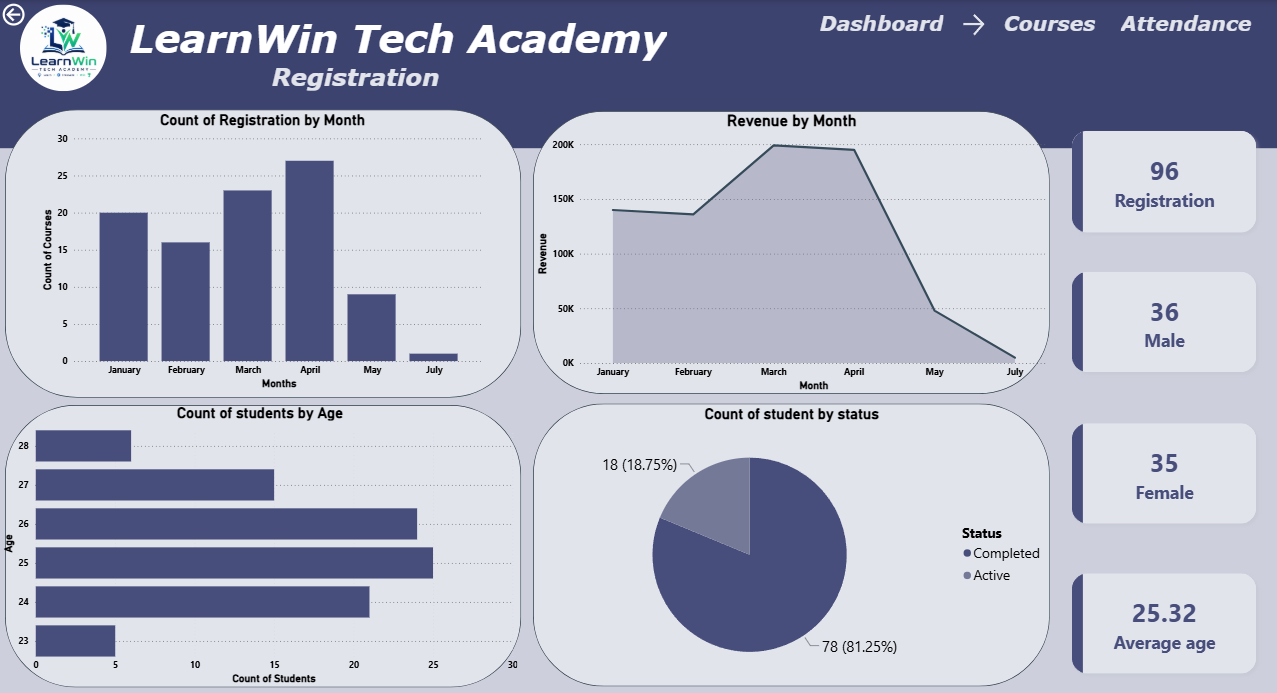

The dashboard page shown, as its layout file describes it:
{"tool":"powerbi","page":{"name":"Registration","canvas":[1280,720],"ordinal":1},"visuals":[{"type":"textbox","box":[44.5,51,211,150],"z":0},{"type":"shape","box":[0,0,313.3,900],"z":1000},{"type":"shape","box":[314,0,965.4,720.5],"z":2000},{"type":"cardVisual","fields":{"Data":["learnwin_tech students.Students"]},"box":[29.8,277.9,265.3,163.3],"z":3000},{"type":"pieChart","title":"Count of student by status","fields":{"Y":["CountNonNull(learnwin_tech registrations.student_id)"],"Category":["learnwin_tech registrations.status"]},"box":[321.4,416.4,475,295],"z":4000},{"type":"columnChart","title":"Count of Registration by Month","fields":{"Y":["CountNonNull(learnwin_tech registrations.course_id)"],"Category":["learnwin_tech registrations.registered_on.Variation.Date Hierarchy.Month"]},"box":[321.4,105.7,475.7,302.9],"z":5000},{"type":"cardVisual","fields":{"Data":["learnwin_tech attendance.Total Registration"]},"box":[28.3,98.9,266.9,163.3],"z":6000},{"type":"actionButton","box":[81.6,0,222.9,76.9],"z":7000},{"type":"image","box":[44,17.3,51.8,44],"z":8000},{"type":"lineChart","fields":{"Category":["learnwin_tech registrations.registered_on.Variation.Date Hierarchy.Month"],"Y":["learnwin_tech courses.Total_Revenue"]},"box":[805.8,8.3,465,365],"z":9000},{"type":"barChart","title":"Count of students by Age","fields":{"Category":["learnwin_tech students.Age"],"Y":["CountNonNull(learnwin_tech registrations.student_id)"]},"box":[805.7,380,465,331.4],"z":10000},{"type":"cardVisual","fields":{"Data":["learnwin_tech attendance.Average age"]},"box":[29.8,469.4,265.3,163.3],"z":11000},{"type":"actionButton","box":[166.7,666.7,160,53.3],"z":12000},{"type":"image","box":[150,670,55,46.7],"z":13000},{"type":"image","box":[0,666.7,54.4,53.3],"z":14000},{"type":"image","box":[54.4,670,42.2,46.7],"z":15000},{"type":"slicer","title":"Registered on","fields":{"Values":["learnwin_tech registrations.registered_on"]},"box":[321.4,8.6,475,90],"z":16000}]}

Visuals, with their boxes on the page's 1280x720 design canvas (x1, y1, x2, y2). These are canvas units, not pixel positions in the 1277x693 screenshot, which may show the page scaled, cropped or inside an application window:
textbox: (44, 51, 256, 201)
shape: (0, 0, 313, 900)
shape: (314, 0, 1279, 720)
cardVisual - learnwin_tech students.Students: (30, 278, 295, 441)
"Count of student by status" pieChart: (321, 416, 796, 711)
"Count of Registration by Month" columnChart: (321, 106, 797, 409)
cardVisual - learnwin_tech attendance.Total Registration: (28, 99, 295, 262)
actionButton: (82, 0, 304, 77)
image: (44, 17, 96, 61)
lineChart - learnwin_tech registrations.registered_on.Variation.Date Hierarchy.Month x learnwin_tech courses.Total_Revenue: (806, 8, 1271, 373)
"Count of students by Age" barChart: (806, 380, 1271, 711)
cardVisual - learnwin_tech attendance.Average age: (30, 469, 295, 633)
actionButton: (167, 667, 327, 720)
image: (150, 670, 205, 717)
image: (0, 667, 54, 720)
image: (54, 670, 97, 717)
"Registered on" slicer: (321, 9, 796, 99)
